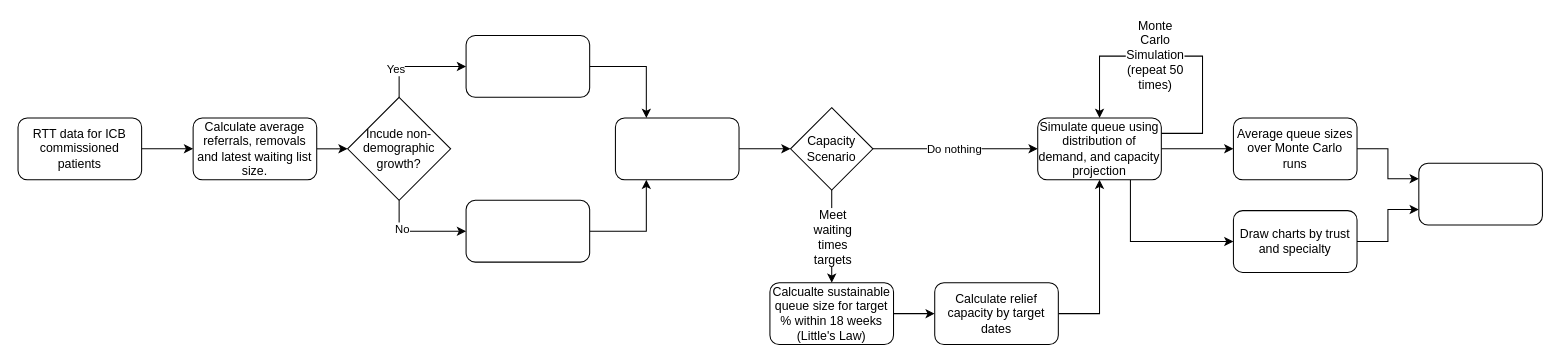
Some shapes in this 1560 by 363 pixel diagram are drawn without their labels. Each missing label, with the centre of its shape:
"Grow referrals by demographic growth +1% non-demographic growth" goes at point (527, 66).
"Grow referrals by demographic growth only" goes at point (527, 230).
"Project capacity (removals) at latest 12-month median" goes at point (676, 148).
"RTT pathway closes (capacity) required." goes at point (1480, 193).
